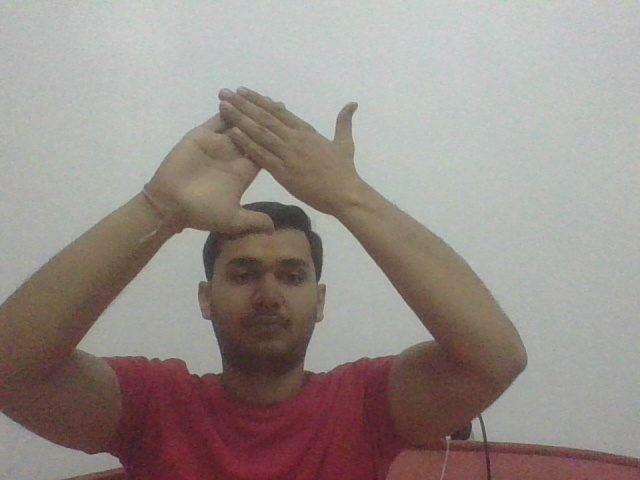H: (148, 81, 364, 234)
